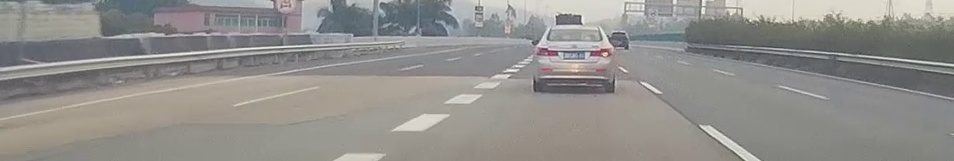L_light: (536, 47, 557, 56)
R_light: (590, 48, 612, 57)
T_light: (569, 29, 582, 32)
day-no: (534, 27, 616, 93)
